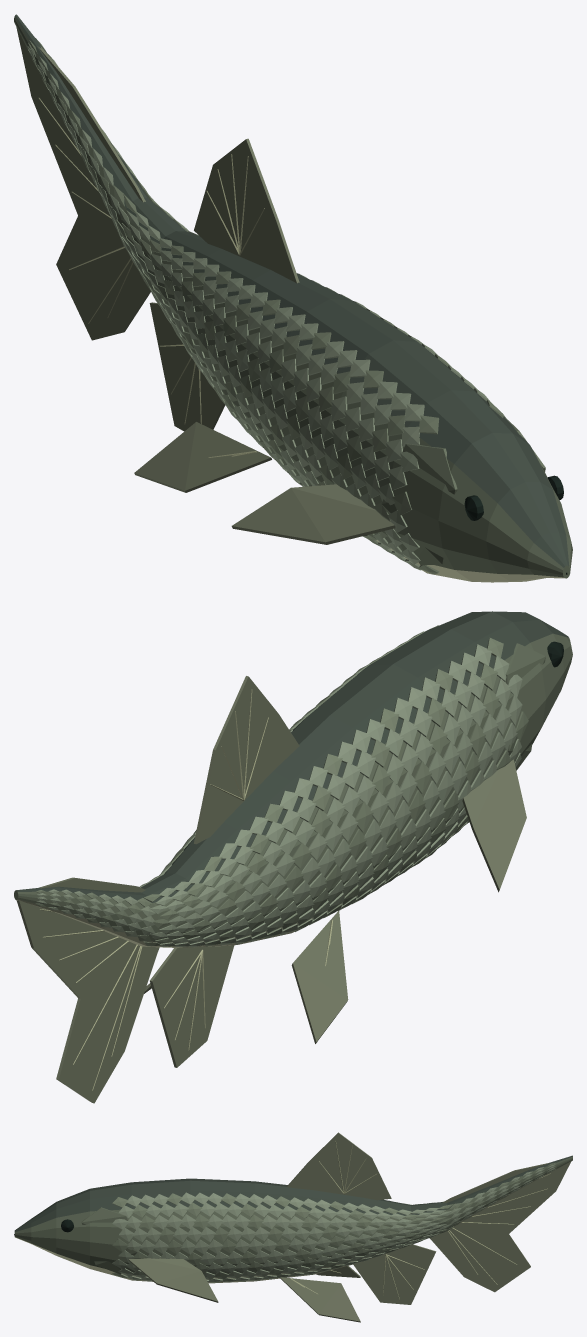
The picture shows the model from 3 angles, top to bottom: view 1: azimuth 30°, elevation 25°; view 2: azimuth 150°, elevation 25°; view 3: azimuth 270°, elevation 25°; orthographic projection. The views are drawn at different scales.
Visible parts, largest first — view 1: Continuous scaled body and upper caudal axis, Left merged rhomboid scale bands, Heterocercal caudal web, Posterior dorsal fin, Left pectoral fin, Left pelvic fin, Anal fin, Merged fin-ray relief, Left opercular plate, Right merged rhomboid scale bands; view 2: Left merged rhomboid scale bands, Continuous scaled body and upper caudal axis, Heterocercal caudal web, Posterior dorsal fin, Anal fin, Left pectoral fin, Left pelvic fin, Merged fin-ray relief, Left opercular plate, Right merged rhomboid scale bands; view 3: Right merged rhomboid scale bands, Continuous scaled body and upper caudal axis, Heterocercal caudal web, Posterior dorsal fin, Anal fin, Right pectoral fin, Right pelvic fin, Merged fin-ray relief, Right opercular plate, Left pelvic fin.
Part boxes in pixels (<box>): Continuous scaled body and upper caudal axis: <box>14,14,572,582</box>; Left merged rhomboid scale bands: <box>27,40,439,574</box>; Heterocercal caudal web: <box>16,27,150,340</box>; Posterior dorsal fin: <box>194,138,299,283</box>; Left pectoral fin: <box>231,484,395,544</box>; Left pelvic fin: <box>134,422,271,492</box>; Anal fin: <box>149,302,225,431</box>; Merged fin-ray relief: <box>38,69,264,457</box>; Left opercular plate: <box>381,443,457,565</box>; Right merged rhomboid scale bands: <box>35,38,508,421</box>; Left merged rhomboid scale bands: <box>35,638,528,947</box>; Continuous scaled body and upper caudal axis: <box>14,611,572,947</box>; Heterocercal caudal web: <box>16,877,159,1103</box>; Posterior dorsal fin: <box>194,676,299,844</box>; Anal fin: <box>150,945,234,1067</box>; Left pectoral fin: <box>462,759,526,892</box>; Left pelvic fin: <box>291,911,348,1043</box>; Merged fin-ray relief: <box>40,689,332,1090</box>; Left opercular plate: <box>505,643,545,770</box>; Right merged rhomboid scale bands: <box>139,625,438,887</box>; Right merged rhomboid scale bands: <box>112,1162,555,1282</box>; Continuous scaled body and upper caudal axis: <box>14,1155,572,1283</box>; Heterocercal caudal web: <box>429,1161,571,1292</box>; Posterior dorsal fin: <box>286,1132,391,1200</box>; Anal fin: <box>353,1244,436,1304</box>; Right pectoral fin: <box>128,1258,218,1302</box>; Right pelvic fin: <box>279,1277,360,1322</box>; Merged fin-ray relief: <box>291,1140,550,1299</box>; Right opercular plate: <box>81,1207,137,1274</box>; Left pelvic fin: <box>316,1265,360,1277</box>.
Size of the model in its own units: 0.0563 by 0.068 by 0.2002.
